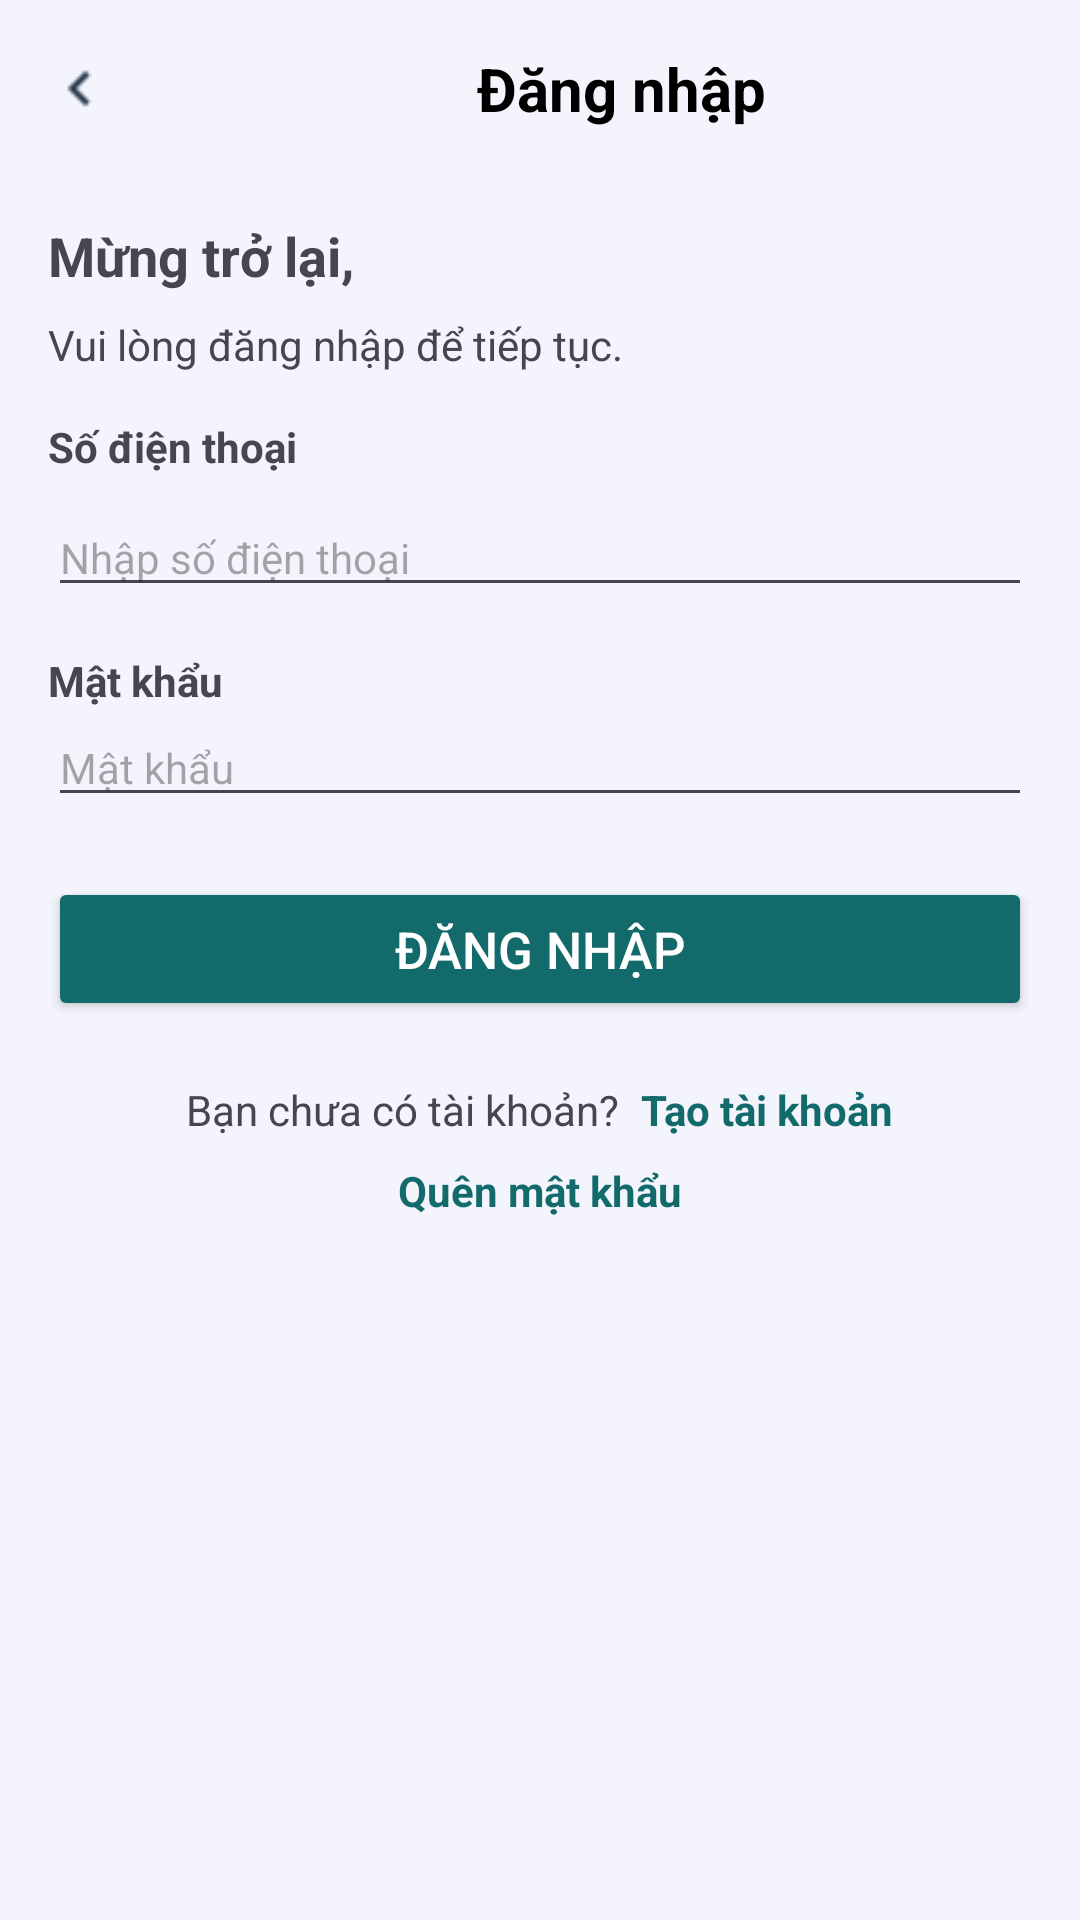

Icon click points for this 1080px×1920px phone screenshot, format (x=x, y=y):
Back: (x=79, y=88)
